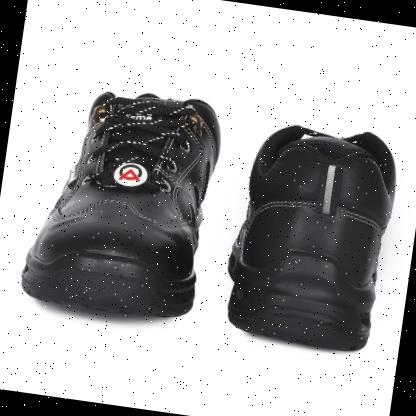bota: (10, 71, 230, 330), (213, 111, 406, 360)
